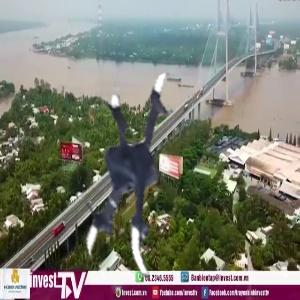drone: (50, 77, 253, 280)
